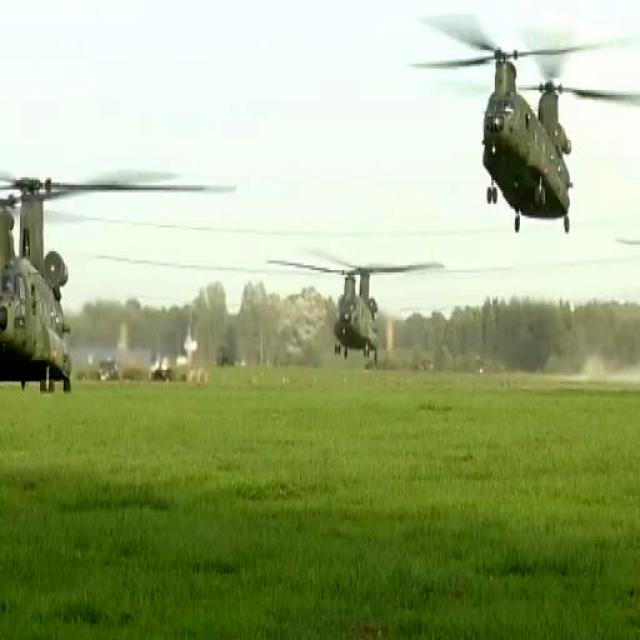drone: (0, 140, 241, 410), (404, 0, 640, 251), (259, 226, 451, 370), (606, 216, 640, 315)
